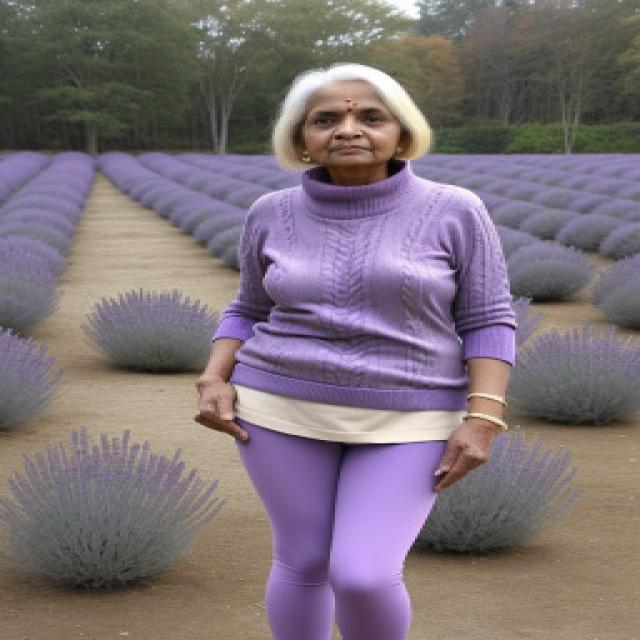Ai human 2: (180, 51, 547, 640)
